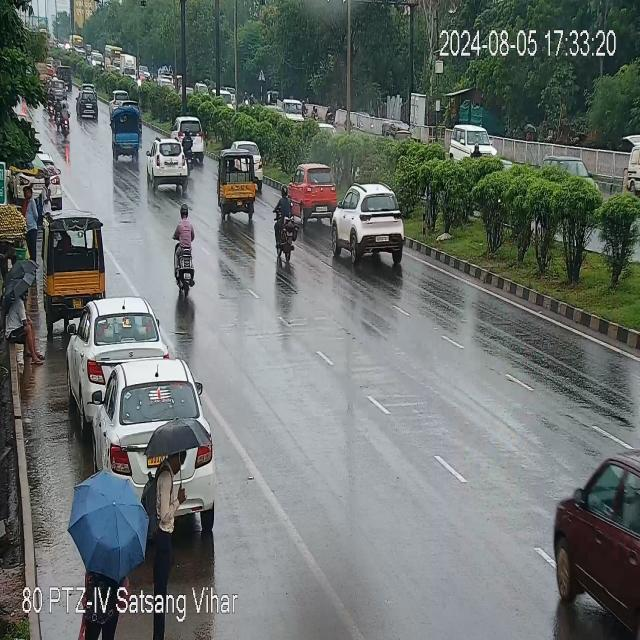2-wheelers: (170, 204, 204, 300), (273, 182, 303, 264), (180, 127, 193, 165), (471, 140, 482, 158)
auto: (43, 212, 109, 314), (212, 146, 256, 223), (380, 120, 417, 142)
car: (547, 445, 639, 640), (87, 364, 200, 481), (68, 296, 165, 402), (336, 179, 415, 263), (290, 162, 338, 223), (16, 150, 66, 204), (143, 139, 188, 192), (450, 124, 500, 160), (173, 116, 204, 161), (75, 90, 99, 124), (249, 138, 264, 190), (109, 90, 125, 114)
pedestrian: (144, 422, 210, 542), (4, 293, 47, 370), (22, 183, 38, 259), (42, 174, 52, 215)
truck: (110, 104, 141, 162)
